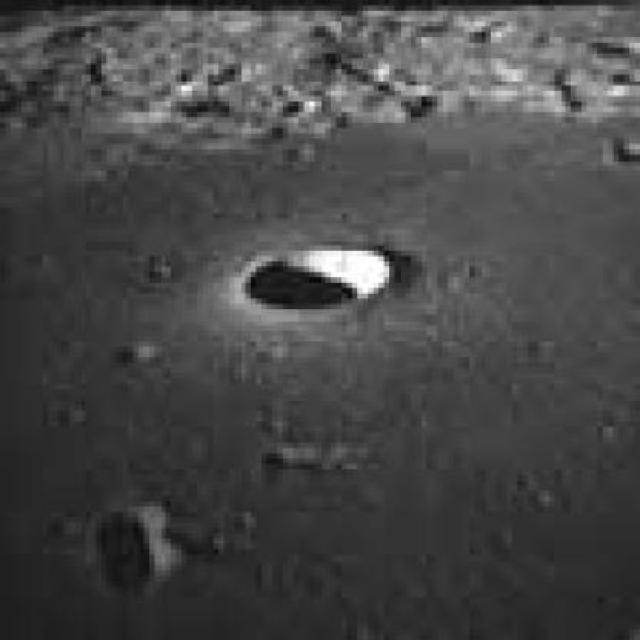crater: (244, 246, 384, 308), (95, 508, 176, 587)
